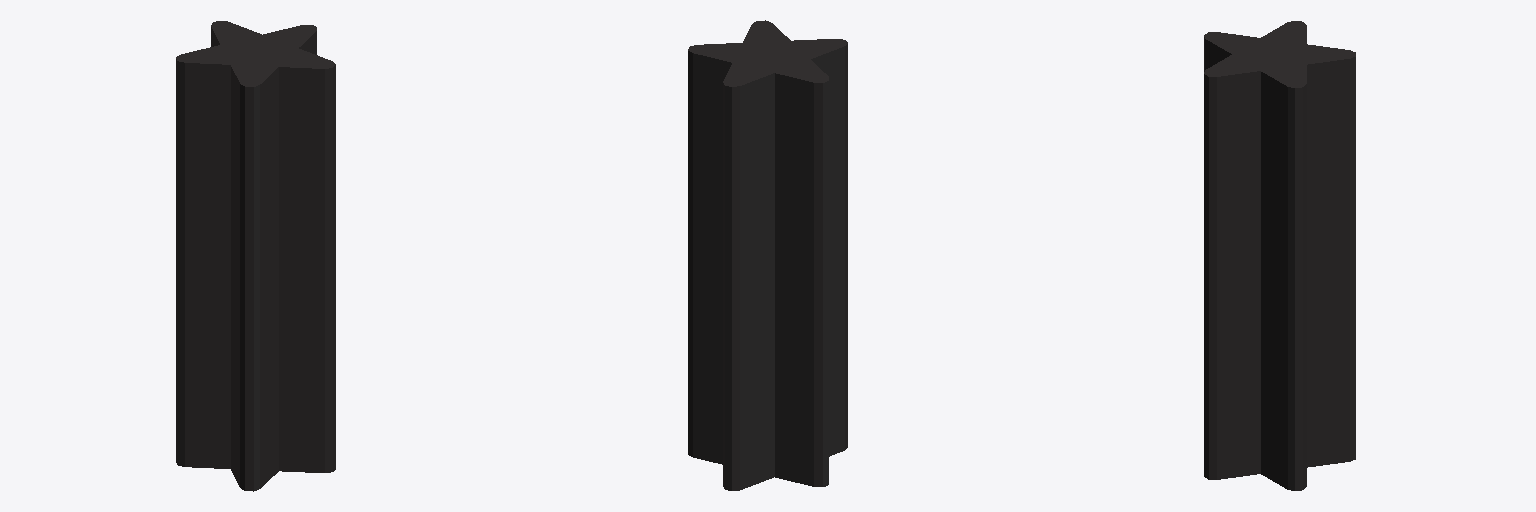
The robot description file, URDF, robot "Large_Long_Star_Yellow":
<?xml version="1.0"?>
<robot name="Large_Long_Star_Yellow">
    <link name="Large_Long_Star_Yellow">
        <visual>
            <geometry>
                <mesh filename="../mesh/factory_insertion/Large_Long_Star_Yellow.obj" scale="0.001 0.001 0.001"/>
            </geometry>
            <material name="Yellow">
              <color rgba="0.22 0.21 0.21 0.0"/>
            </material>
        </visual>
        <collision>
            <geometry>
                <mesh filename="../mesh/factory_insertion/Large_Long_Star_Yellow.obj" scale="0.001 0.001 0.001"/>
            </geometry>
            <sdf resolution="512"/>
        </collision>
    </link>
</robot>

--- What the picture shows (computed from the rendered views, not written in the file) ---
The picture shows the robot from 3 angles, left to right: view 1: azimuth 30°, elevation 25°; view 2: azimuth 150°, elevation 25°; view 3: azimuth 270°, elevation 25°; orthographic projection.
Model Large_Long_Star_Yellow with 1 links and 0 joints (none), rooted at Large_Long_Star_Yellow, posed every joint at zero.
Visible links, largest first — view 1: Large_Long_Star_Yellow; view 2: Large_Long_Star_Yellow; view 3: Large_Long_Star_Yellow.
Link boxes in pixels (box(x1,y1,x2,y2)): Large_Long_Star_Yellow: box(176, 21, 335, 491); Large_Long_Star_Yellow: box(688, 20, 847, 490); Large_Long_Star_Yellow: box(1204, 21, 1355, 490).
Bounding box of the posed robot: 0.0543 × 0.0516 × 0.15 m (x, y, z).
Meshes: 1 distinct files referenced, 1 mesh visuals loaded (1 OBJ).
